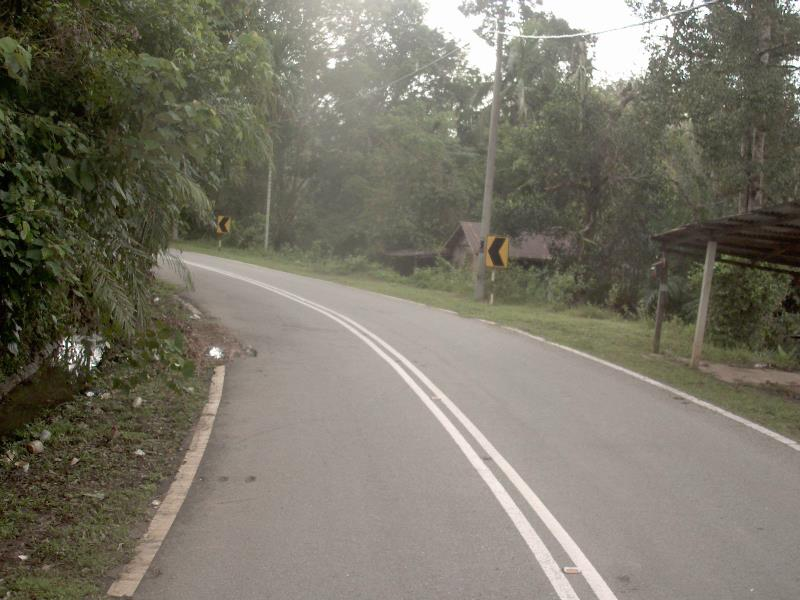traffic_sign: (478, 228, 516, 277)
